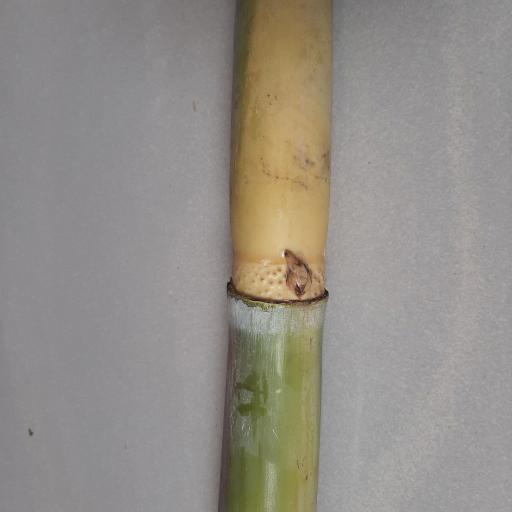Bud: (281, 249, 314, 299)
